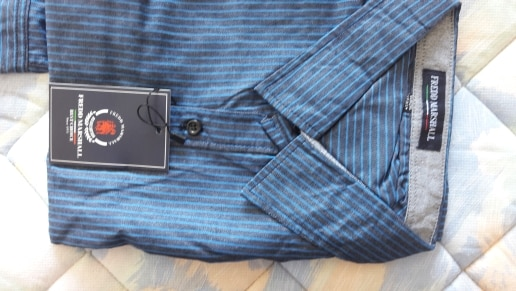shirts: (47, 5, 447, 263)
